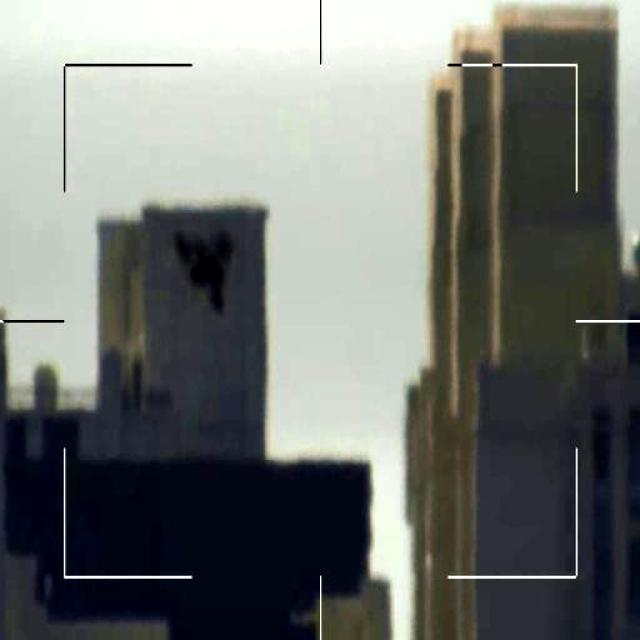bird: (169, 220, 236, 312)
